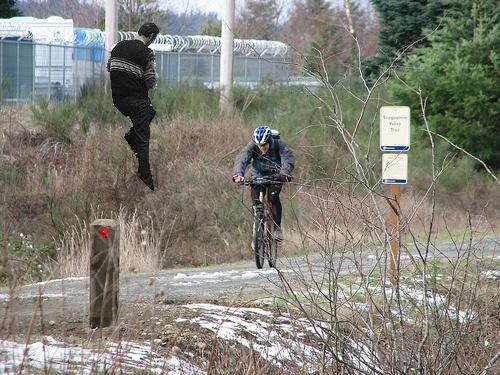tampered: (107, 23, 160, 191)
